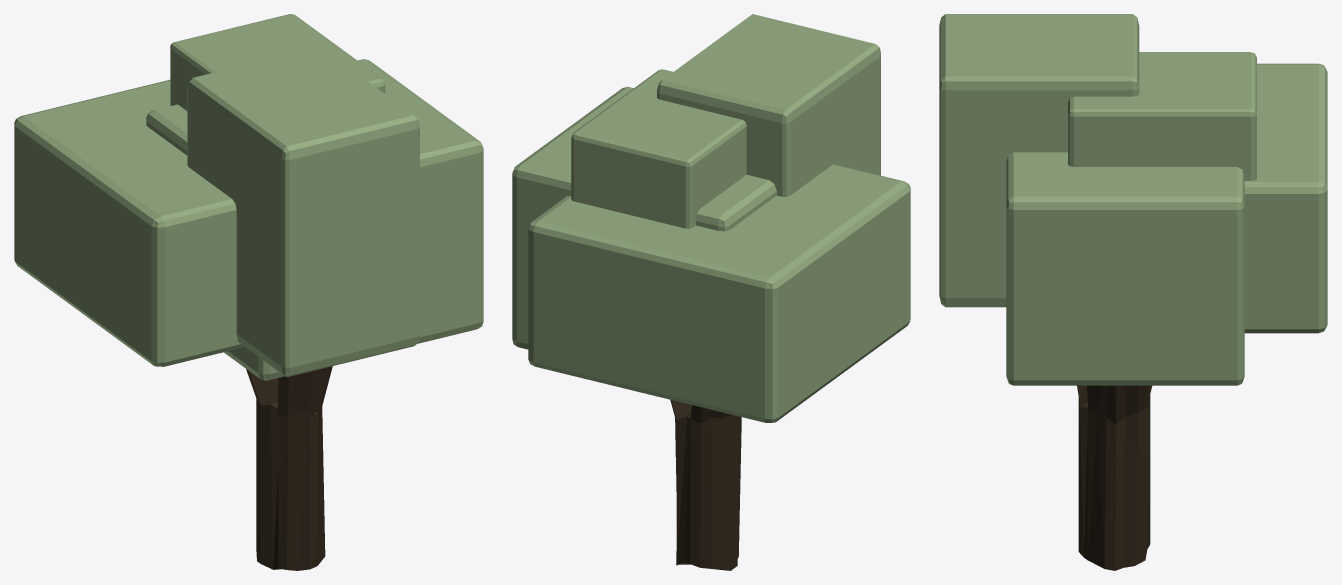
Rendered from ChoppedTreeTop.fbx.
3 views of the same model, side by side, from view 1: azimuth 30°, elevation 25°; view 2: azimuth 150°, elevation 25°; view 3: azimuth 270°, elevation 25° (orthographic). The views are drawn at different scales.
Parts seen in each view (by area): view 1: polySurface2; view 2: polySurface2; view 3: polySurface2.
Boxes of the visible parts, x1,y1,x2,y2 form: polySurface2: (14,14,483,570); polySurface2: (512,14,910,570); polySurface2: (939,14,1327,570).
Bounding box in the file's own units: 402 × 606 × 427.
